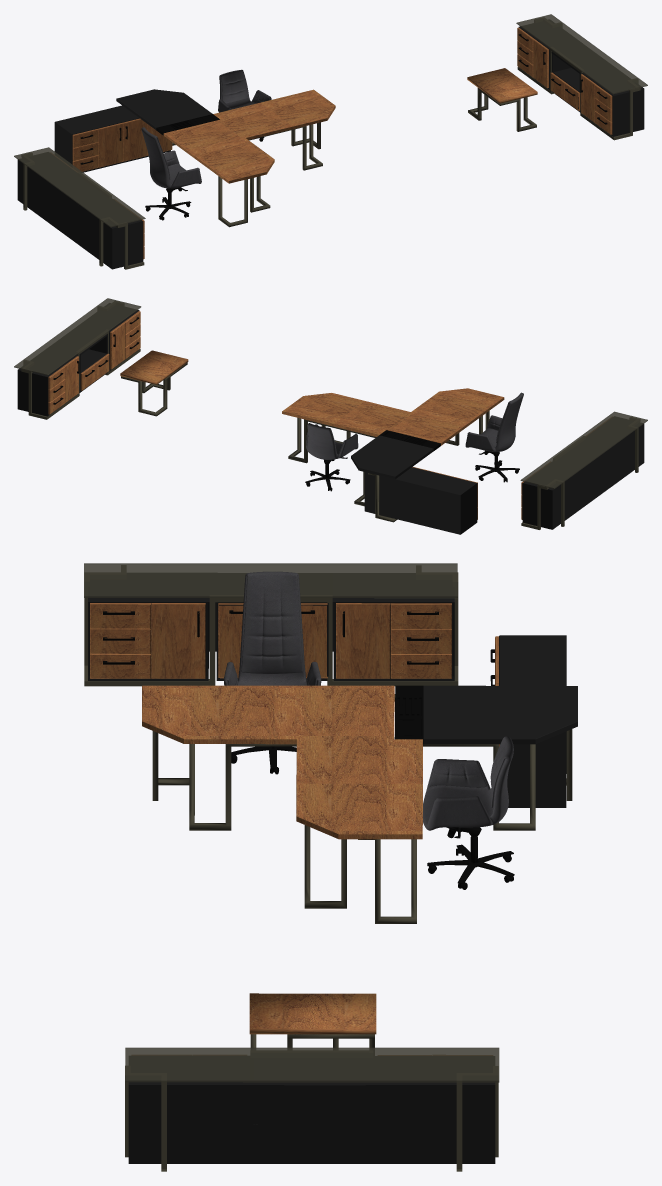
The model's file is manager_office.glb.
The picture shows the model from 3 angles, top to bottom: view 1: azimuth 30°, elevation 25°; view 2: azimuth 150°, elevation 25°; view 3: azimuth 270°, elevation 25°; orthographic projection. The views are drawn at different scales.
Visible parts, largest first — view 1: Object_2, Object_18, Object_5, Object_11, Object_3, Object_9; view 2: Object_18, Object_2, Object_5, Object_11, Object_3, Object_9, Object_12, Object_14; view 3: Object_2, Object_18, Object_5, Object_11, Object_3, Object_9, Object_12, Object_14.
Boxes of the visible parts, left/top/right/bottom form: Object_2: left=72, top=27, right=612, bottom=259; Object_18: left=17, top=26, right=644, bottom=269; Object_5: left=14, top=14, right=647, bottom=227; Object_11: left=22, top=17, right=640, bottom=269; Object_3: left=141, top=69, right=271, bottom=188; Object_9: left=82, top=34, right=604, bottom=164; Object_18: left=17, top=310, right=644, bottom=534; Object_2: left=48, top=311, right=524, bottom=519; Object_5: left=14, top=298, right=647, bottom=488; Object_11: left=21, top=301, right=639, bottom=529; Object_3: left=306, top=392, right=523, bottom=459; Object_9: left=55, top=318, right=440, bottom=450; Object_12: left=305, top=460, right=519, bottom=488; Object_14: left=306, top=450, right=518, bottom=491; Object_2: left=90, top=603, right=499, bottom=1034; Object_18: left=88, top=598, right=577, bottom=1163; Object_5: left=84, top=563, right=499, bottom=1082; Object_11: left=84, top=565, right=572, bottom=1171; Object_3: left=223, top=571, right=513, bottom=830; Object_9: left=104, top=611, right=492, bottom=743; Object_12: left=231, top=746, right=514, bottom=883; Object_14: left=231, top=746, right=513, bottom=889.
Bounding box in the file's own units: 871 × 129 × 352.
9 materials, 2 textured.
